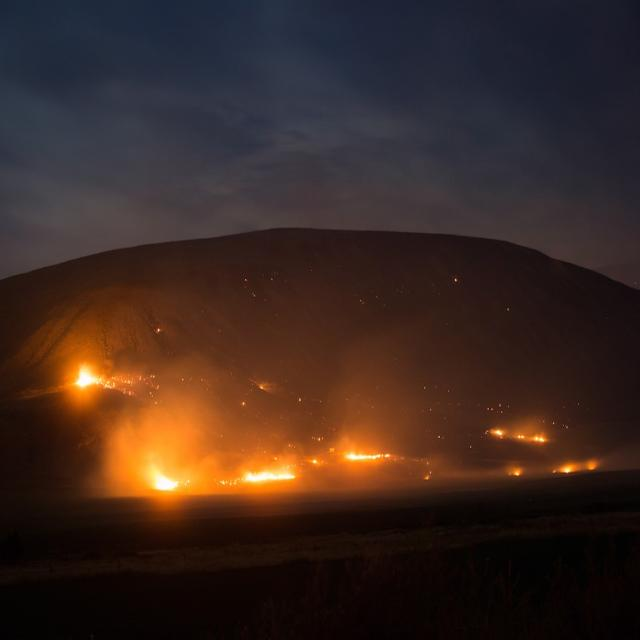Fire: (233, 468, 308, 483), (491, 424, 549, 443), (347, 448, 396, 462), (156, 468, 178, 497), (76, 361, 95, 386)
Smoke: (123, 367, 231, 493)
